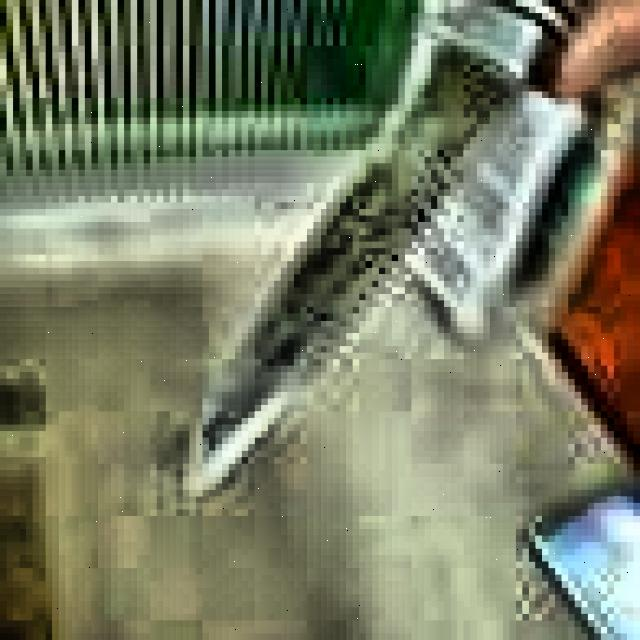knife: (189, 0, 582, 503)
